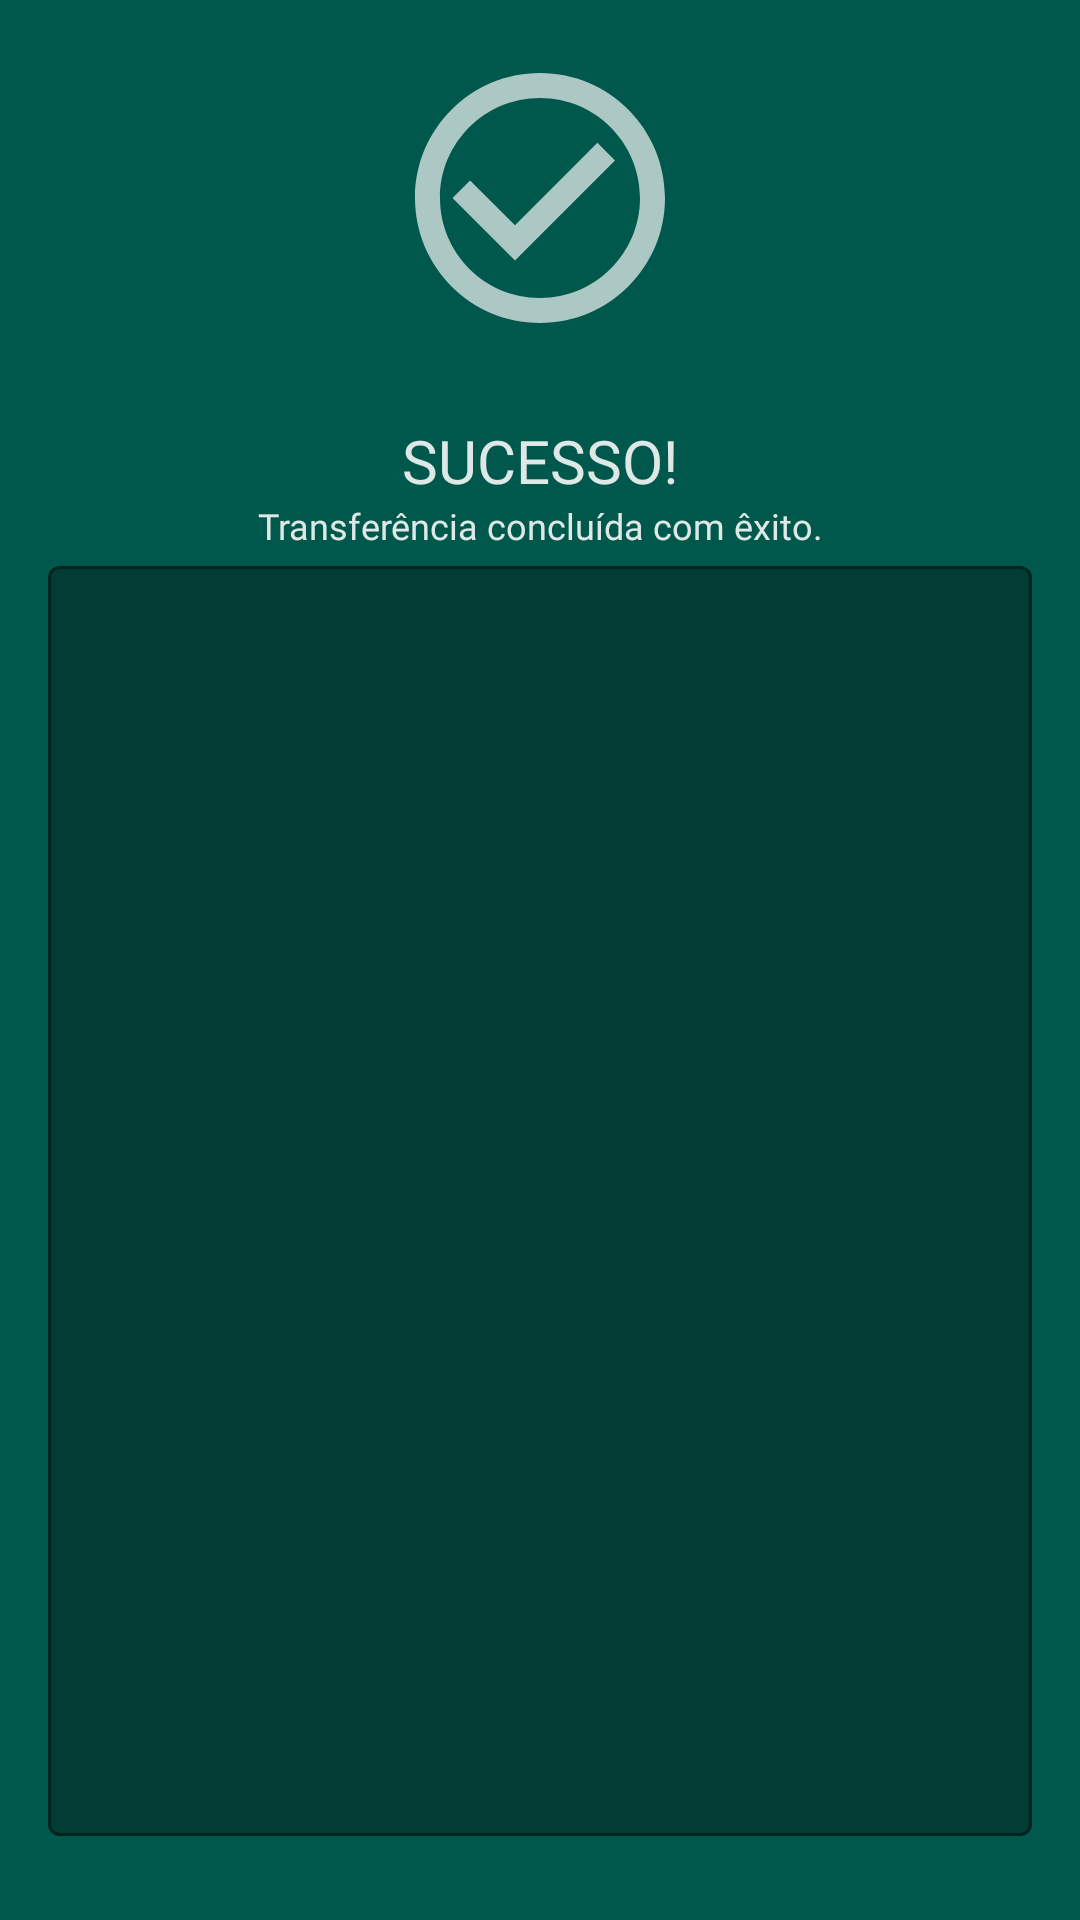

Where to tap for icons on this 1080 × 1920 app screen, as point (x, y):
check circle: point (540, 198)
